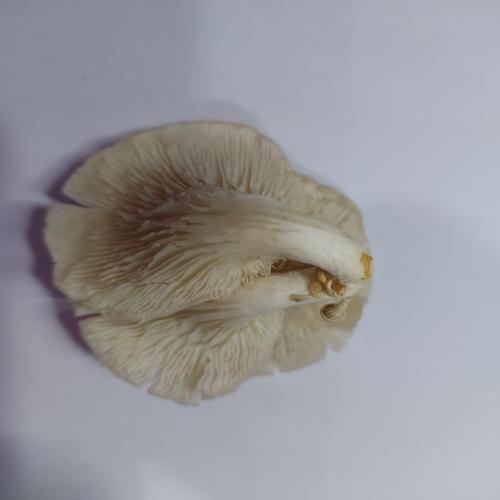Oyster Mushroom: (40, 119, 375, 406)
